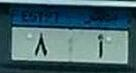8: (31, 32, 50, 57)
alif: (94, 33, 105, 59)
